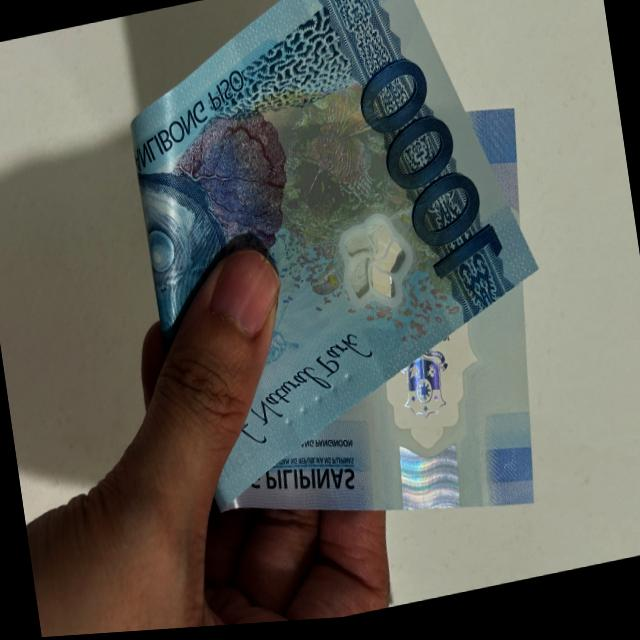clear_window: (377, 326, 485, 503)
sampaguita: (334, 208, 427, 343)
value: (349, 45, 518, 319)
